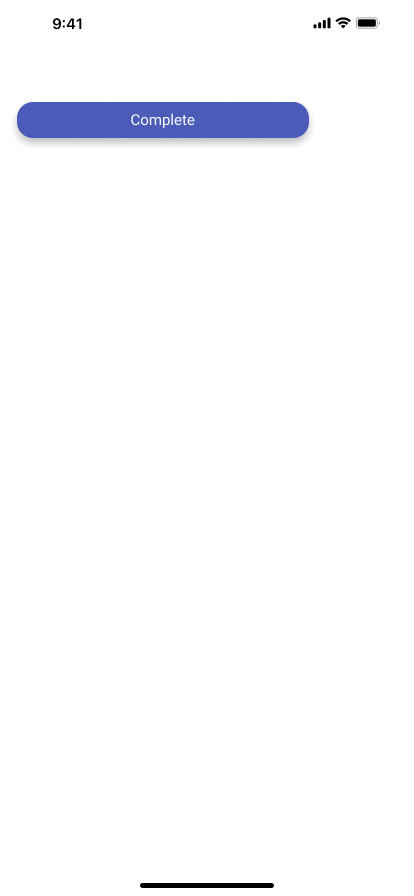Buttons: (8, 98, 318, 152)
Home Indicator: (0, 862, 414, 896)
Status Bar: (0, 0, 414, 44)
